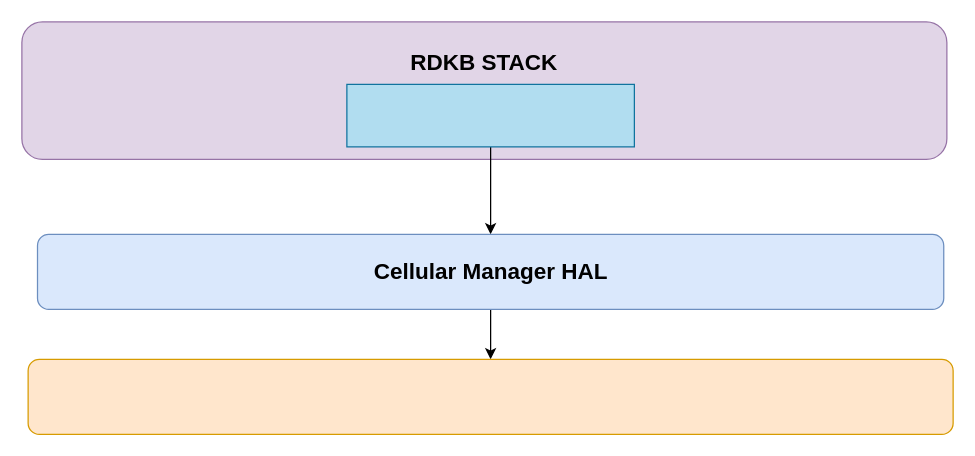
This 975x456 diagram has some shape labels left out. The box of each missing label's shape, as (x1, y1, x2, y2) in pixels:
CellularManager: (346, 83, 634, 147)
VENDOR SOFTWARE: (27, 358, 953, 434)
